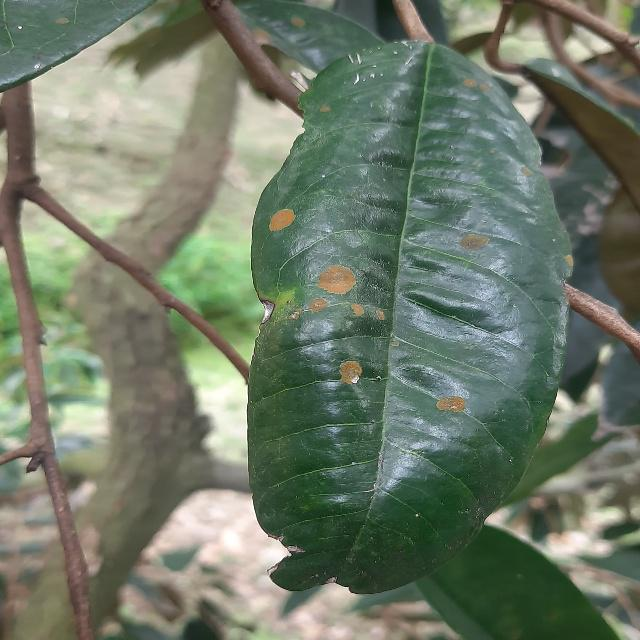Algal Leaf Spot: (255, 31, 577, 603)
